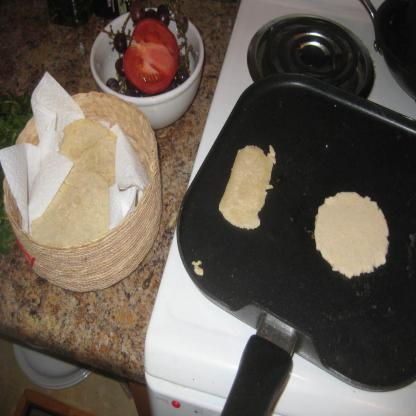Tomato: (124, 18, 180, 96)
